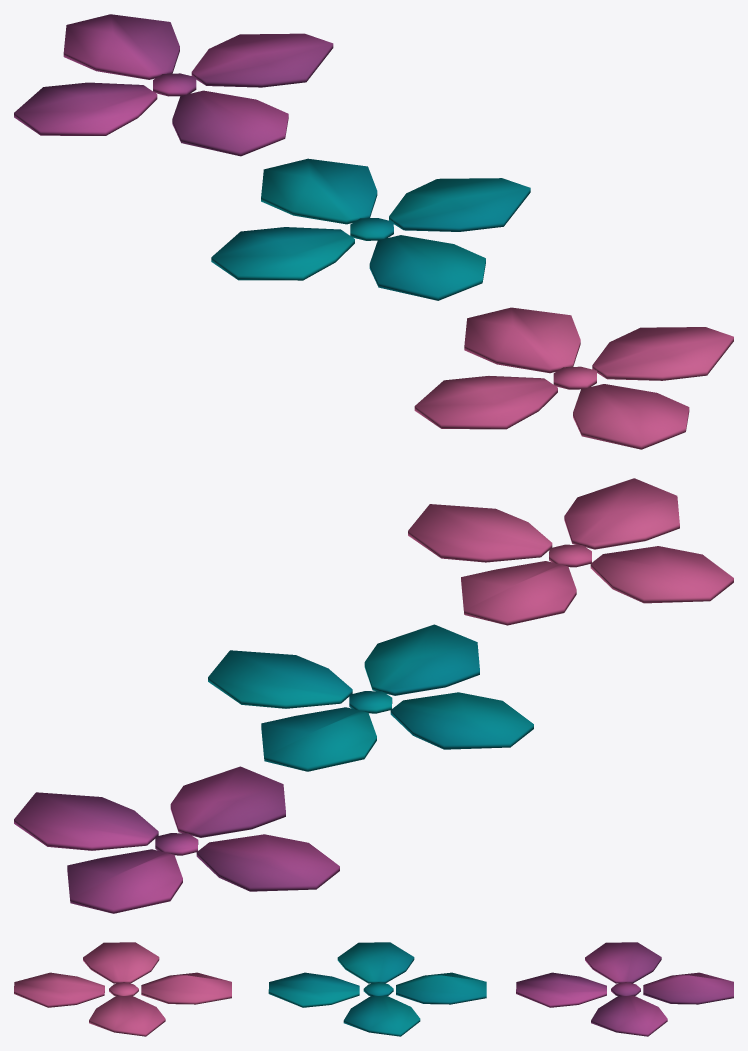
The model's file is flores.fbx.
The picture shows the model from 3 angles, top to bottom: view 1: azimuth 30°, elevation 25°; view 2: azimuth 150°, elevation 25°; view 3: azimuth 270°, elevation 25°; orthographic projection. The views are drawn at different scales.
Parts seen in each view (by area): view 1: Plane.013; view 2: Plane.013; view 3: Plane.013.
Part boxes in pixels (<box>): Plane.013: <box>14,14,733,449</box>; Plane.013: <box>14,478,733,913</box>; Plane.013: <box>14,942,733,1036</box>.
Bounding box in the file's own units: 45.65 × 2.91 × 150.
1 material, 1 textured.
